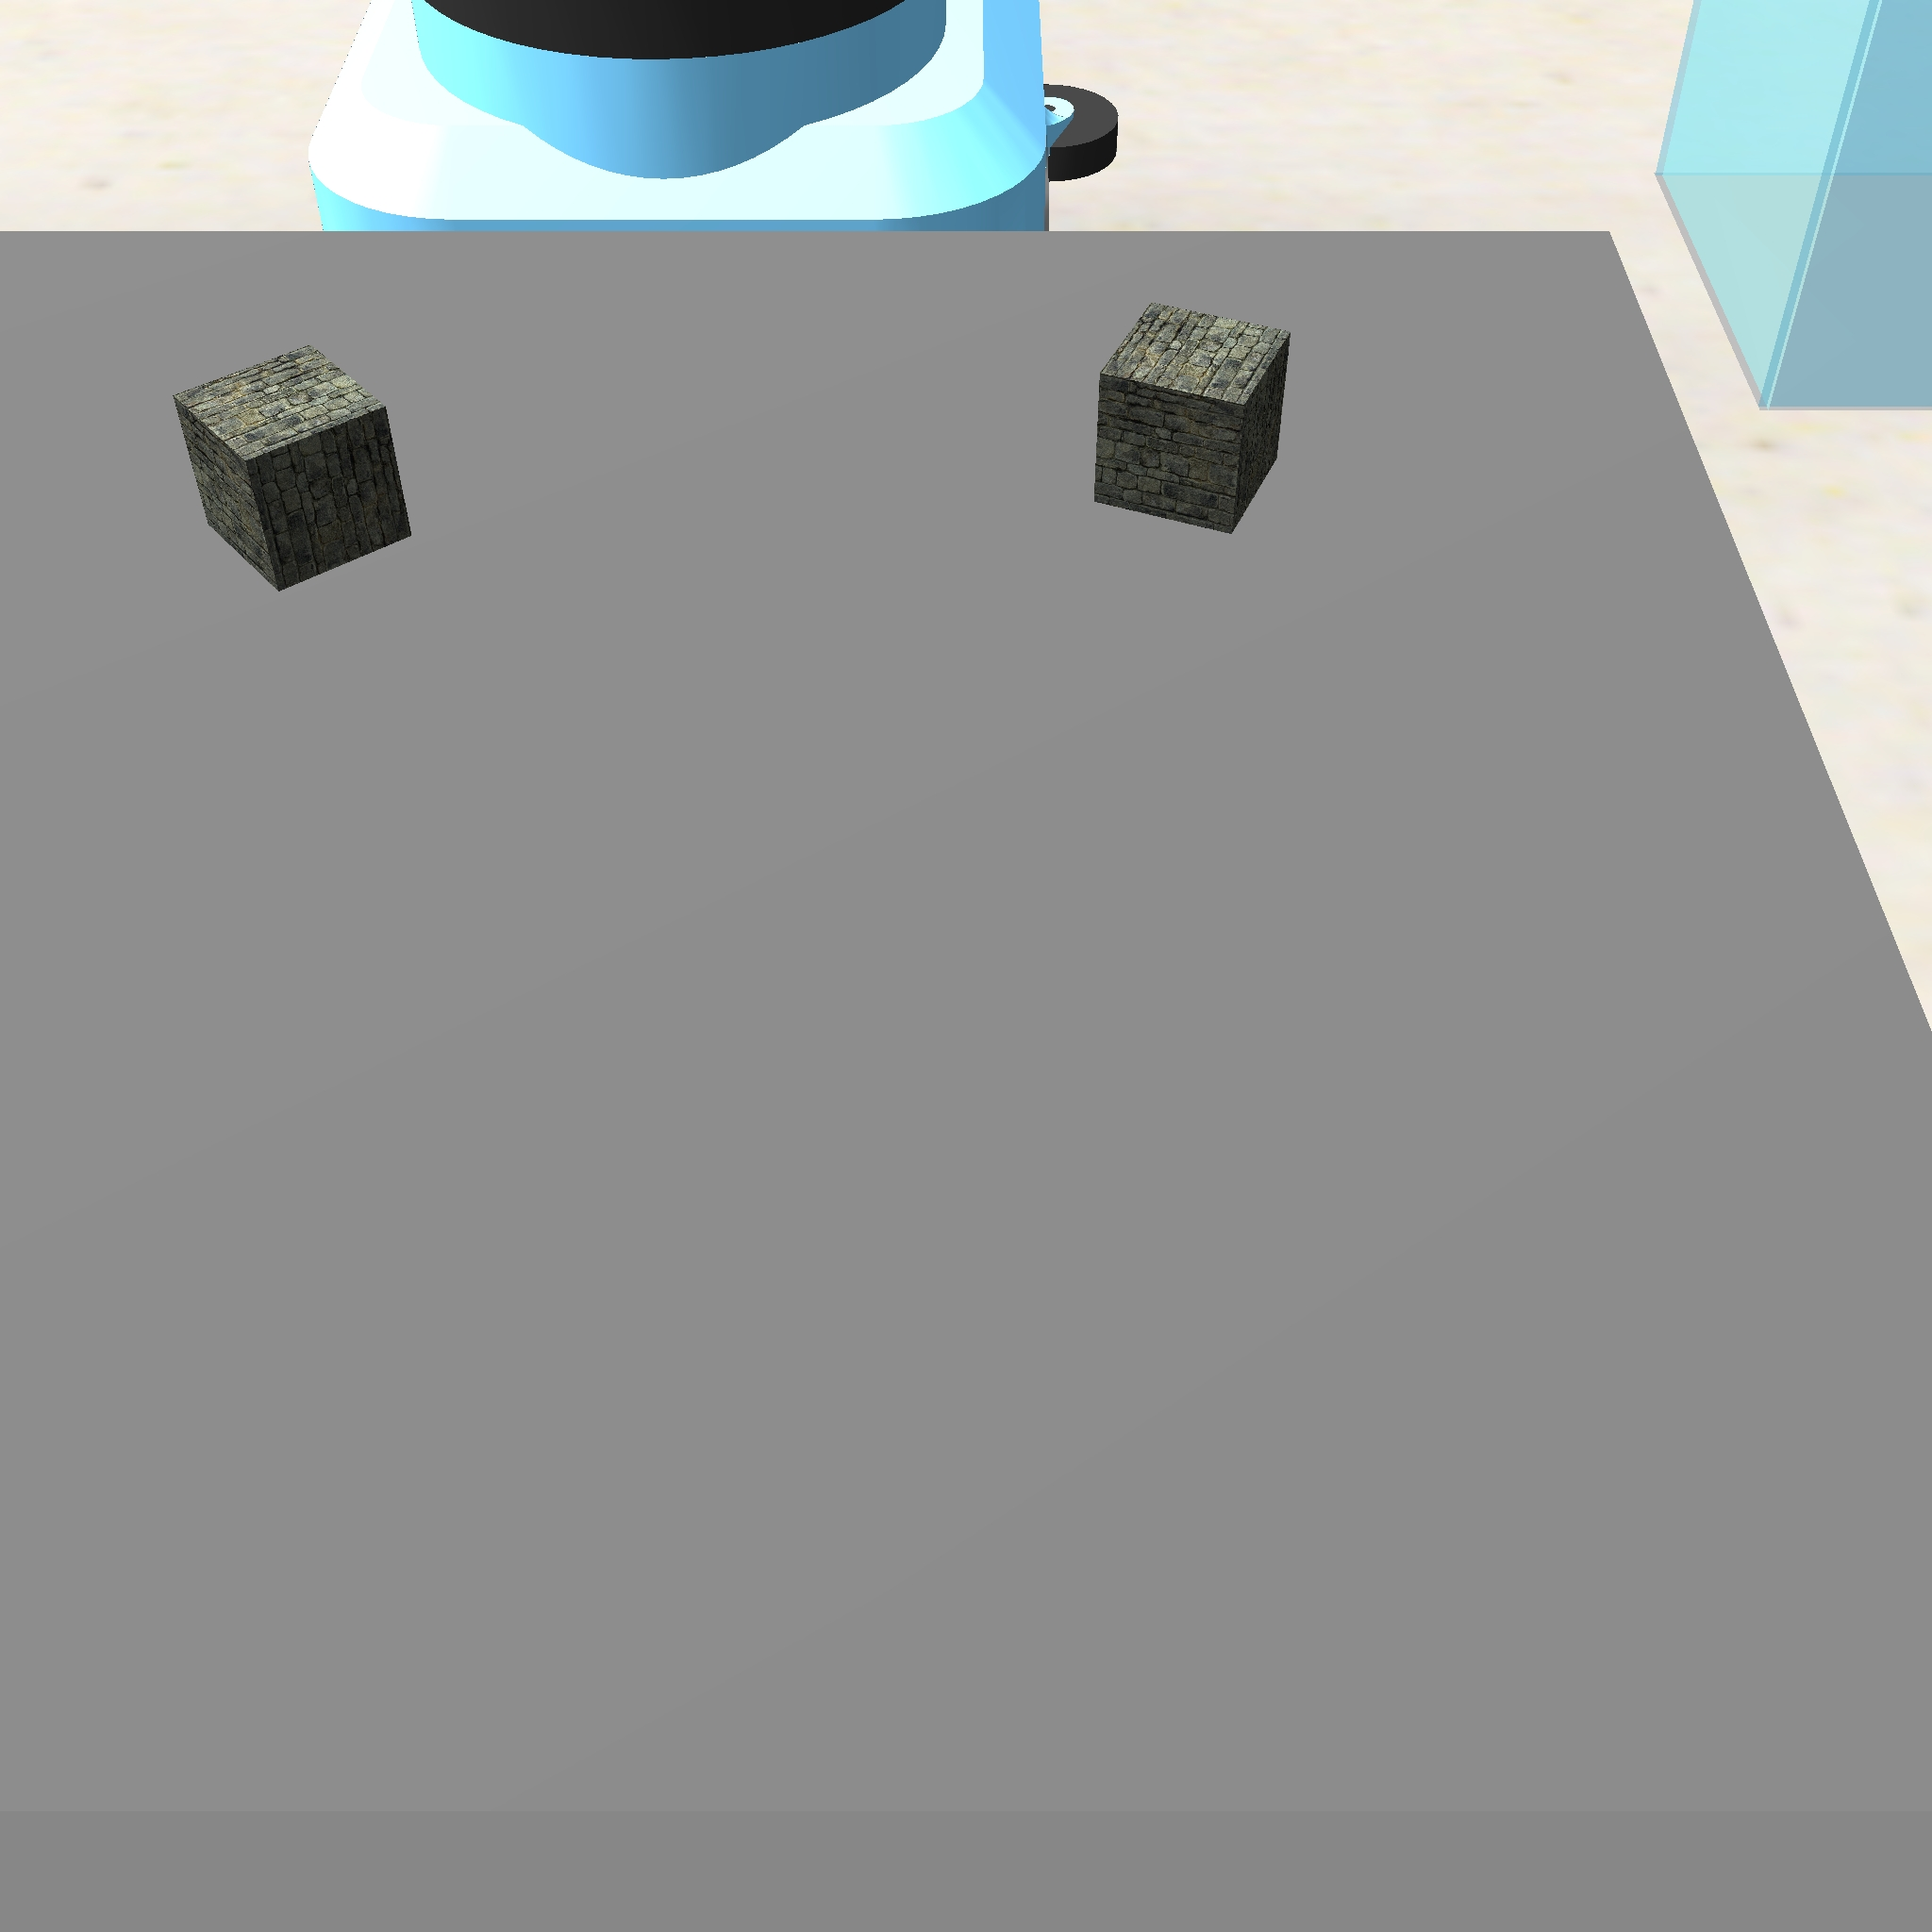cube: (166, 334, 425, 603), (1085, 294, 1300, 543)
